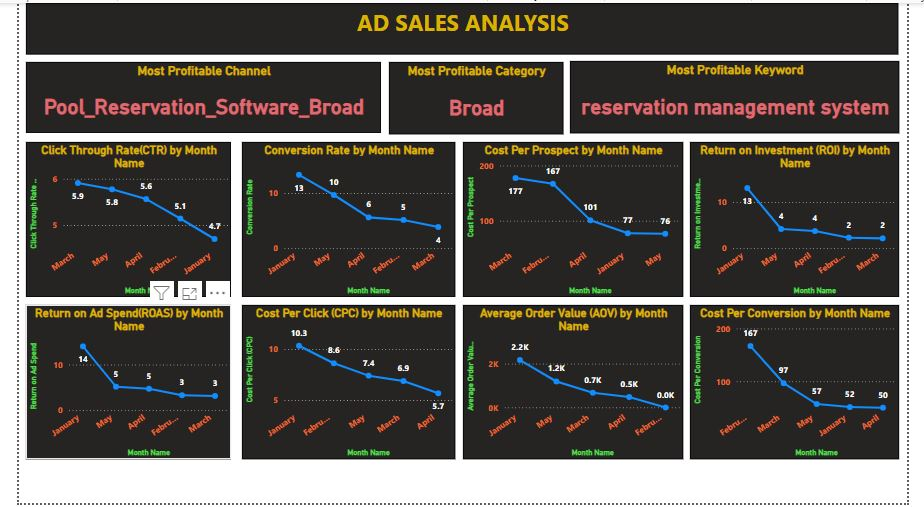

Layout of this report page (visuals, bound fields, positions):
{"tool":"powerbi","page":{"name":"Page 1","canvas":[1280,720],"ordinal":0},"visuals":[{"type":"textbox","box":[10.1,0,1256.5,73.9],"z":0},{"type":"card","title":"Most Profitable Channel","fields":{"Values":["Min(Summary_Channel.Ad group)"]},"box":[10.1,85.7,510.7,102.5],"z":1},{"type":"card","title":"Most Profitable Category","fields":{"Values":["Min(Summary_Keyword.Keyword type)"]},"box":[532.8,85,250.6,103.7],"z":2},{"type":"card","title":"Most Profitable Keyword","fields":{"Values":["Min(Summary_keyword.Search Keyword)"]},"box":[793.4,83.5,473.8,103.7],"z":3},{"type":"lineChart","title":"Conversion Rate by Month Name","fields":{"Y":["Sum(Summary_Conversion_Rate.Conversion Rate)"],"Category":["Summary_Conversion_Rate.Month Name"]},"box":[321.1,200.2,306.7,223.2],"z":7},{"type":"lineChart","title":"Click Through Rate(CTR) by Month Name","fields":{"Category":["Summary_CTR.Month Name"],"Y":["Sum(Summary_CTR.Click Through Rate(CTR))"]},"box":[10.1,200.2,295.2,223.2],"z":8},{"type":"lineChart","title":"Return on Ad Spend(ROAS) by Month Name","fields":{"Category":["Summary_ROAS.Month Name"],"Y":["Sum(Summary_ROAS.Return on Ad Spend(ROAS))"]},"box":[10.1,434.9,295.2,221.8],"z":9},{"type":"lineChart","title":"Cost Per Click (CPC) by Month Name","fields":{"Category":["Summarize_Cost_Per_Click.Month Name"],"Y":["Sum(Summarize_Cost_Per_Click.Cost Per Click (CPC))"]},"box":[321.1,434.9,306.7,221.8],"z":10},{"type":"lineChart","title":"Cost Per Prospect by Month Name","fields":{"Category":["Summary_Cost_Per_Prospect.Month Name"],"Y":["Sum(Summary_Cost_Per_Prospect.Cost Per Prospect)"]},"box":[639.4,200.2,316.8,223.2],"z":11},{"type":"lineChart","title":"Average Order Value (AOV) by Month Name","fields":{"Category":["Summary_AOV.Month Name"],"Y":["Sum(Summary_AOV.Average Order Value (AOV))"]},"box":[639.4,434.9,316.8,221.8],"z":12},{"type":"lineChart","title":"Return on Investment (ROI) by Month Name","fields":{"Category":["Summary_ROI.Month Name"],"Y":["Sum(Summary_ROI.Return on Investment (ROI))"]},"box":[966.2,200.2,301,223.2],"z":13},{"type":"lineChart","title":"Cost Per Conversion by Month Name","fields":{"Y":["Sum(Summary_Cost_Per_Conversion.Cost Per Conversion)"],"Category":["Summary_Cost_Per_Conversion.Month Name"]},"box":[966,435,301,222],"z":14}]}

Visuals, with their boxes in screenshot pixels (x1, y1, x2, y2), scaled from the page's 1280x720 canvas onto the 924x507 screenshot:
textbox: x1=7, y1=0, x2=914, y2=52
"Most Profitable Channel" card: x1=7, y1=60, x2=376, y2=133
"Most Profitable Category" card: x1=385, y1=60, x2=566, y2=133
"Most Profitable Keyword" card: x1=573, y1=59, x2=915, y2=132
"Conversion Rate by Month Name" lineChart: x1=232, y1=141, x2=453, y2=298
"Click Through Rate(CTR) by Month Name" lineChart: x1=7, y1=141, x2=220, y2=298
"Return on Ad Spend(ROAS) by Month Name" lineChart: x1=7, y1=306, x2=220, y2=462
"Cost Per Click (CPC) by Month Name" lineChart: x1=232, y1=306, x2=453, y2=462
"Cost Per Prospect by Month Name" lineChart: x1=462, y1=141, x2=690, y2=298
"Average Order Value (AOV) by Month Name" lineChart: x1=462, y1=306, x2=690, y2=462
"Return on Investment (ROI) by Month Name" lineChart: x1=697, y1=141, x2=915, y2=298
"Cost Per Conversion by Month Name" lineChart: x1=697, y1=306, x2=915, y2=463
